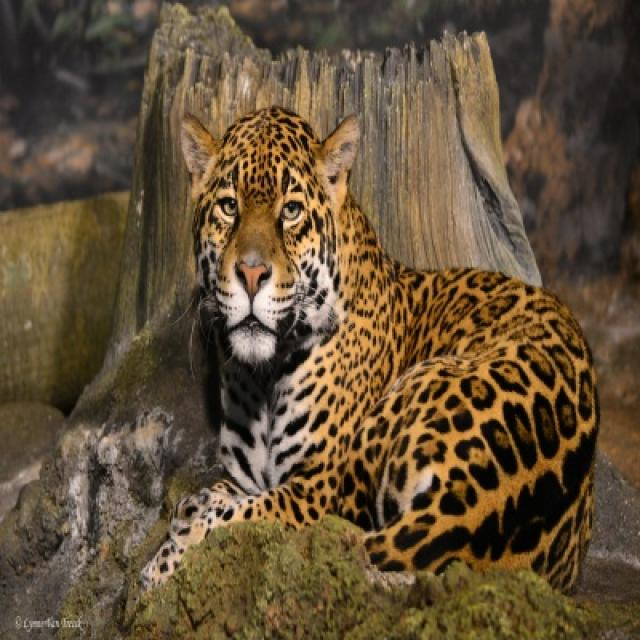Jaguar: (142, 109, 602, 597)
